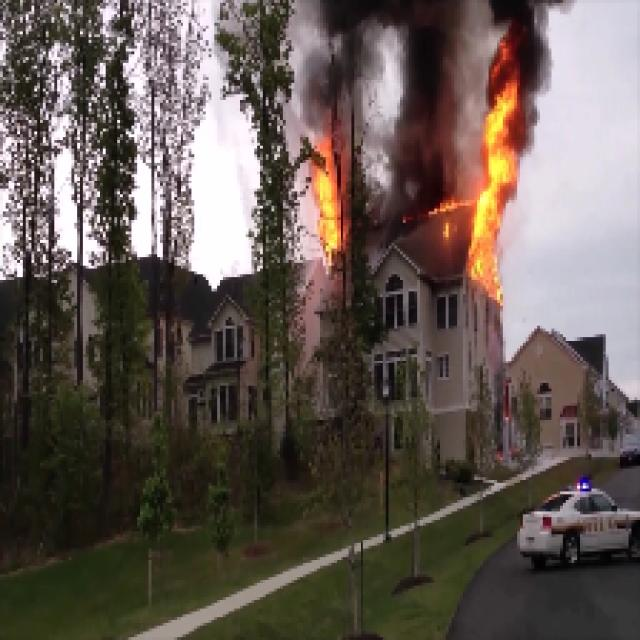fire: (477, 116, 506, 284)
smoke: (392, 3, 459, 206), (508, 8, 542, 108)
